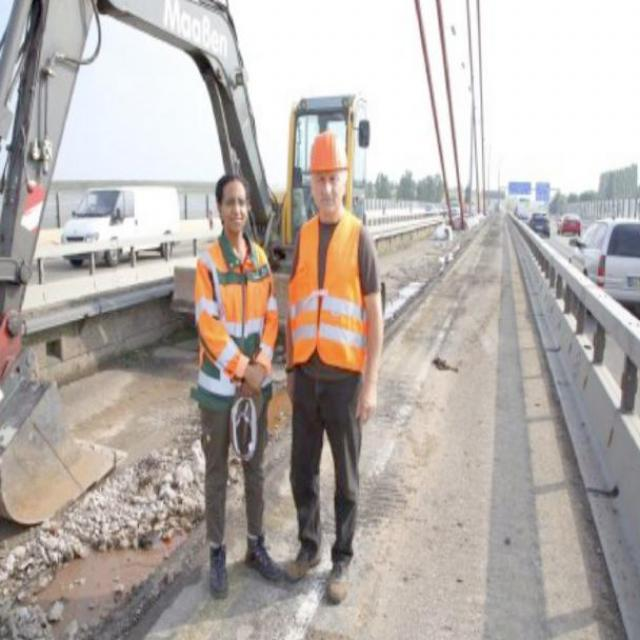helmet: (292, 126, 356, 226)
vest: (292, 215, 364, 376), (200, 230, 271, 384)
